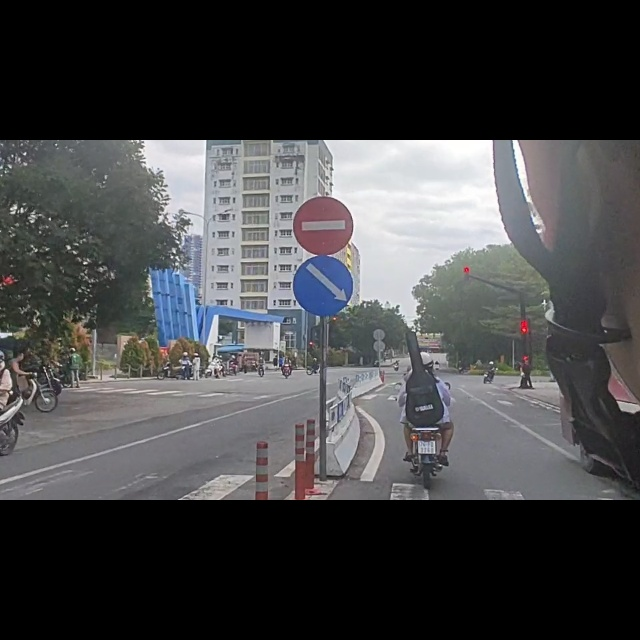bien_hieu_lenh: (293, 207, 357, 319), (293, 95, 355, 206)
